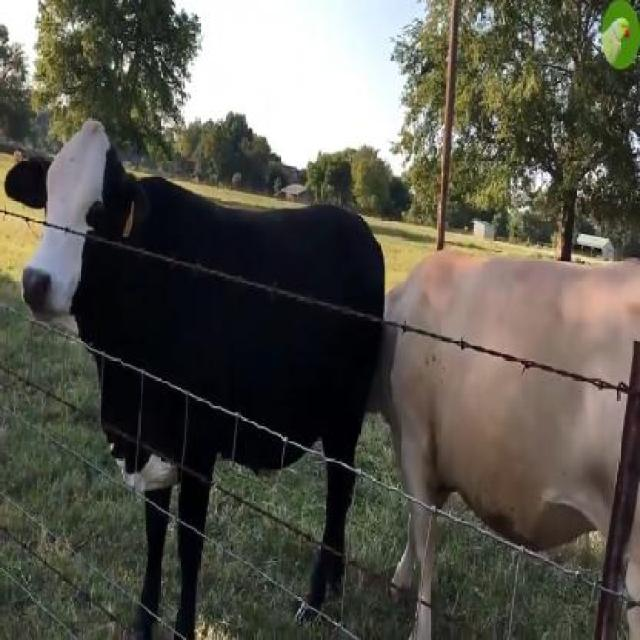Cow: (4, 121, 384, 638)
